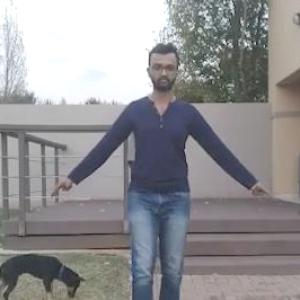land: (74, 64, 241, 299)
